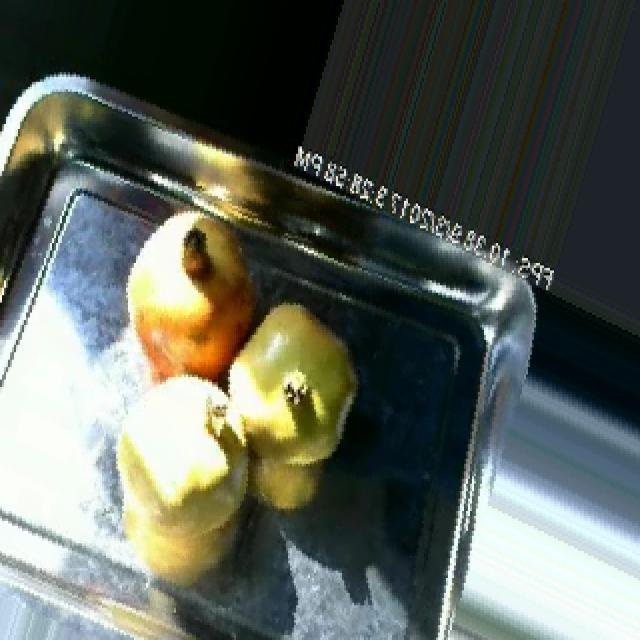fruit: (82, 355, 280, 615), (92, 183, 288, 407), (210, 275, 380, 494)
